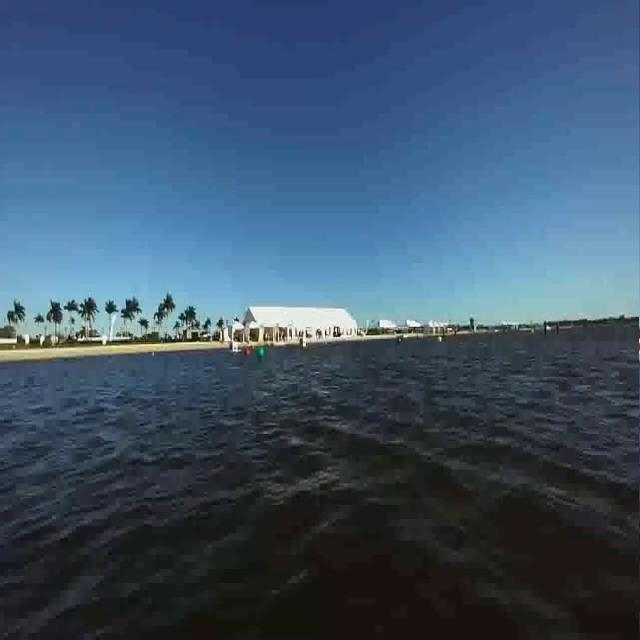green-buoy: (258, 342, 266, 360)
red-buoy: (243, 344, 251, 358)
